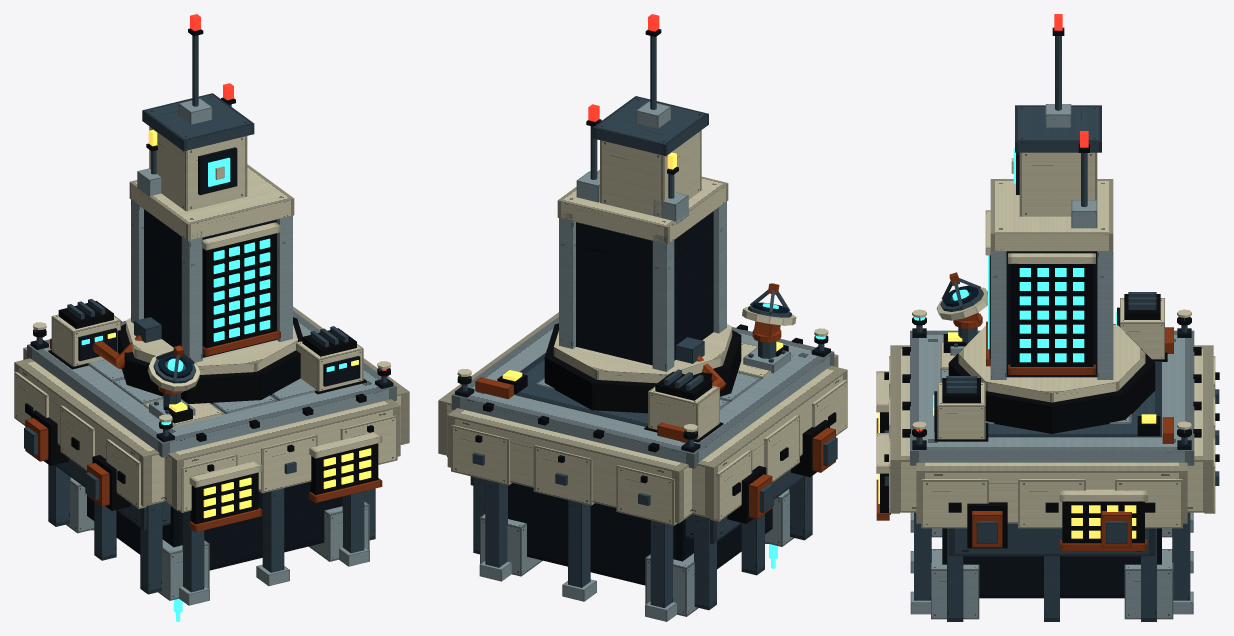
File: beacon_relay.glb
The picture shows the model from 3 angles, left to right: view 1: azimuth 30°, elevation 25°; view 2: azimuth 150°, elevation 25°; view 3: azimuth 270°, elevation 25°; orthographic projection. The views are drawn at different scales.
Parts seen in each view (by area): view 1: beacon_island_static / module, beacon_direction_finder / module, beacon_direction_finder_fixed_pedestal / module; view 2: beacon_island_static / module, beacon_direction_finder / module, beacon_direction_finder_fixed_pedestal / module; view 3: beacon_island_static / module, beacon_direction_finder / module, beacon_direction_finder_fixed_pedestal / module.
Part boxes in pixels (x1,y1,x2,y2): beacon_island_static / module: [14, 14, 409, 605]; beacon_direction_finder / module: [148, 345, 200, 394]; beacon_direction_finder_fixed_pedestal / module: [149, 386, 195, 418]; beacon_island_static / module: [438, 14, 847, 621]; beacon_direction_finder / module: [742, 283, 796, 339]; beacon_direction_finder_fixed_pedestal / module: [743, 329, 790, 373]; beacon_island_static / module: [876, 14, 1219, 621]; beacon_direction_finder / module: [936, 272, 987, 328]; beacon_direction_finder_fixed_pedestal / module: [950, 313, 982, 355].
Bounding box in the file's own units: 11.44 × 19.82 × 10.63.
Materials: 10 (10 with a texture image).
